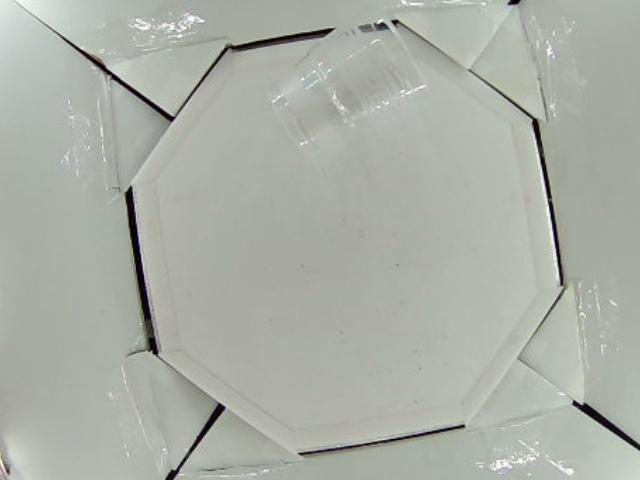Cup: (271, 11, 427, 157)
